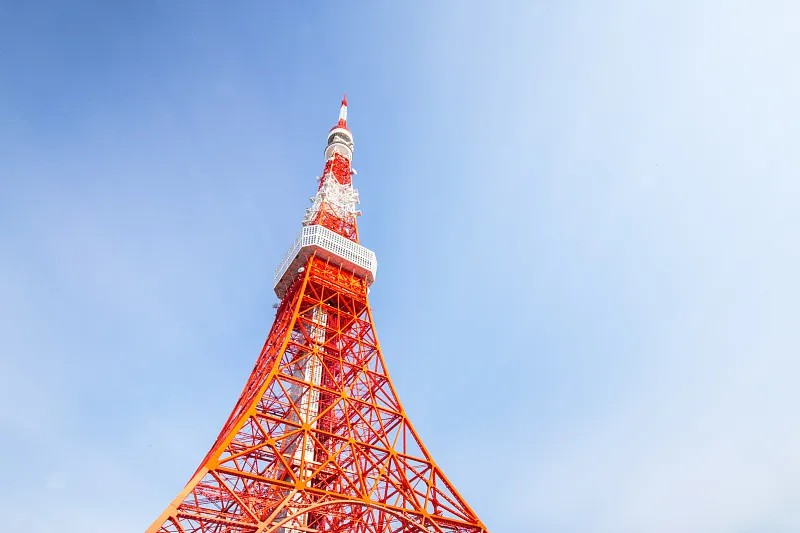Tokyo: (142, 91, 490, 532)
